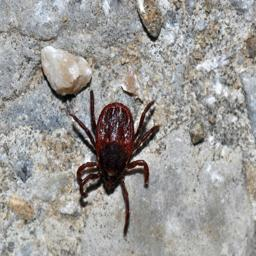Rhipicephalus sanguineus: (70, 89, 157, 237)
